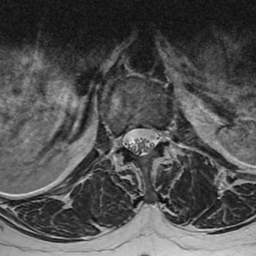CCS_normal: (134, 116, 146, 162)
LFS_normal: (159, 120, 169, 149)
LLS_normal: (146, 118, 159, 155)
RFS_normal: (113, 123, 123, 156)
RLS_normal: (123, 118, 134, 158)
